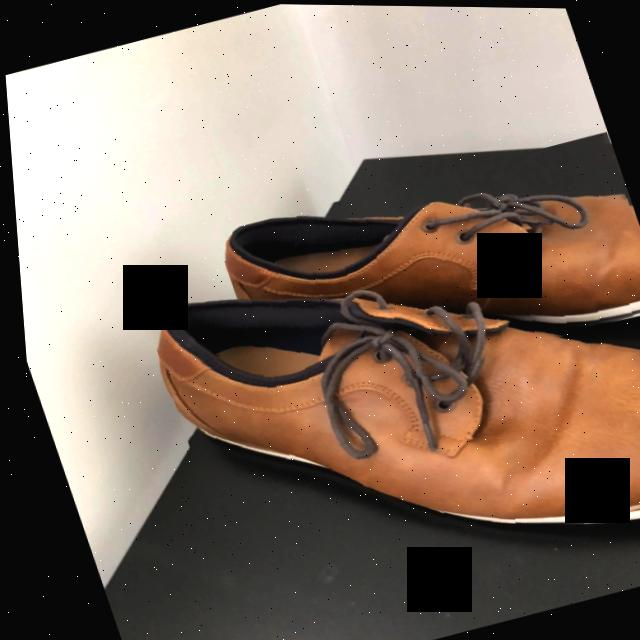shoe: (157, 296, 640, 519), (224, 197, 640, 315)
